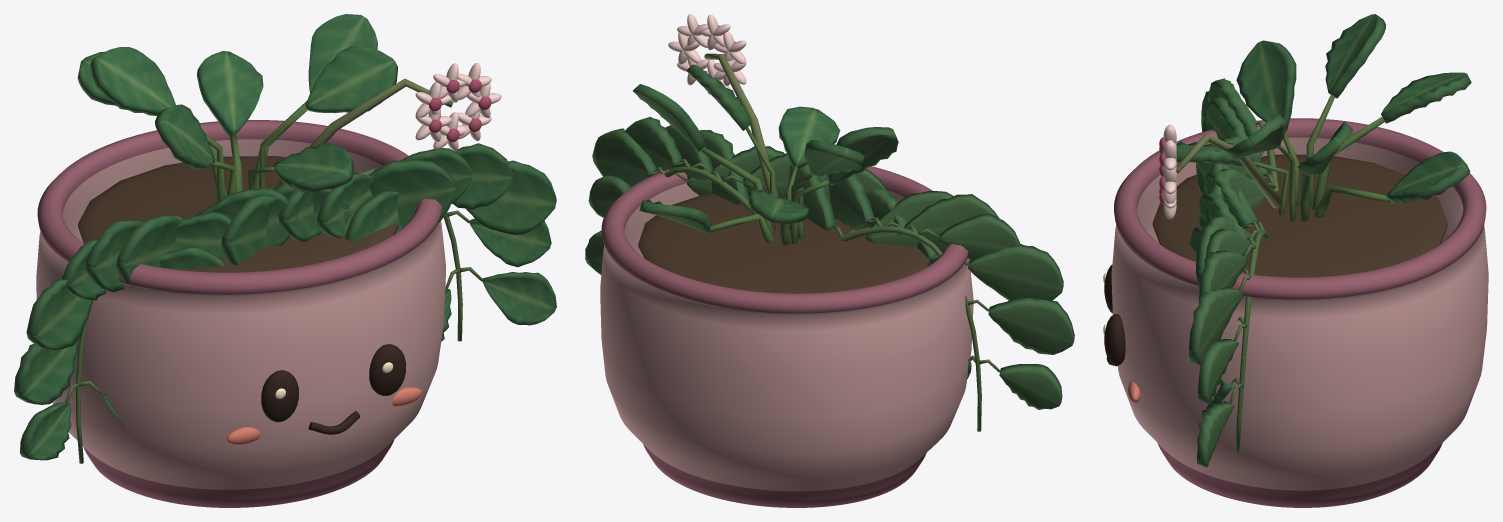
File: wax-plant-v1.glb
The picture shows the model from 3 angles, left to right: view 1: azimuth 30°, elevation 25°; view 2: azimuth 150°, elevation 25°; view 3: azimuth 270°, elevation 25°; orthographic projection. The views are drawn at different scales.
Visible parts, largest first — view 1: Wheel-thrown ceramic, Soil, Hoya Carnosa crown lamina 6, Hoya Carnosa crown lamina 2, Hoya Carnosa crown lamina 4, Hoya Carnosa trailing leaf 1-7-1, Hoya Carnosa trailing leaf 1-1-1, Hoya Carnosa trailing leaf 0-7--1, Hoya Carnosa trailing leaf 1-11-1, Hoya Carnosa trailing leaf 0-9--1, Hoya Carnosa crown lamina 3, Hoya Carnosa crown lamina 1 (+21 smaller); view 2: Wheel-thrown ceramic, Soil, Hoya Carnosa trailing leaf 0-7--1, Hoya Carnosa trailing leaf 0-9--1, Hoya Carnosa trailing leaf 1-7-1, Hoya Carnosa crown lamina 3, Hoya Carnosa trailing leaf 0-5--1, Hoya Carnosa trailing leaf 0-3--1, Hoya Carnosa trailing leaf 0-11--1, Hoya Carnosa crown lamina 5, Hoya Carnosa trailing leaf 0-3-1, Hoya Carnosa trailing leaf 1-5-1 (+19 smaller); view 3: Wheel-thrown ceramic, Soil, Hoya Carnosa crown lamina 5, Hoya Carnosa crown lamina 2, Hoya Carnosa crown lamina 4, Hoya Carnosa trailing leaf 1-7-1, Hoya Carnosa crown lamina 7, Hoya Carnosa trailing leaf 1-9-1, Hoya Carnosa trailing leaf 1-5-1, Hoya Carnosa trailing leaf 1-11-1, Hoya Carnosa crown lamina 6, Flower spur (+17 smaller).
Part boxes in pixels (<box>): Wheel-thrown ceramic: <box>36,120,445,507</box>; Soil: <box>78,156,398,272</box>; Hoya Carnosa crown lamina 6: <box>305,46,397,113</box>; Hoya Carnosa crown lamina 2: <box>90,47,175,115</box>; Hoya Carnosa crown lamina 4: <box>196,51,263,137</box>; Hoya Carnosa trailing leaf 1-7-1: <box>466,160,556,234</box>; Hoya Carnosa trailing leaf 1-1-1: <box>369,159,455,228</box>; Hoya Carnosa trailing leaf 0-7--1: <box>26,276,93,349</box>; Hoya Carnosa trailing leaf 1-11-1: <box>482,272,556,325</box>; Hoya Carnosa trailing leaf 0-9--1: <box>14,340,77,404</box>; Hoya Carnosa crown lamina 3: <box>273,142,354,193</box>; Hoya Carnosa crown lamina 1: <box>308,14,377,93</box>; Wheel-thrown ceramic: <box>600,166,973,507</box>; Soil: <box>638,194,929,293</box>; Hoya Carnosa trailing leaf 0-7--1: <box>968,243,1063,300</box>; Hoya Carnosa trailing leaf 0-9--1: <box>988,297,1074,354</box>; Hoya Carnosa trailing leaf 1-7-1: <box>592,128,657,187</box>; Hoya Carnosa crown lamina 3: <box>778,106,840,169</box>; Hoya Carnosa trailing leaf 0-5--1: <box>939,214,1019,260</box>; Hoya Carnosa trailing leaf 0-3--1: <box>904,194,998,252</box>; Hoya Carnosa trailing leaf 0-11--1: <box>999,364,1062,409</box>; Hoya Carnosa crown lamina 5: <box>826,127,898,185</box>; Hoya Carnosa trailing leaf 0-3-1: <box>828,173,874,229</box>; Hoya Carnosa trailing leaf 1-5-1: <box>625,116,682,172</box>; Wheel-thrown ceramic: <box>1111,118,1488,507</box>; Soil: <box>1152,154,1447,277</box>; Hoya Carnosa crown lamina 5: <box>1236,40,1296,131</box>; Hoya Carnosa crown lamina 2: <box>1325,14,1385,98</box>; Hoya Carnosa crown lamina 4: <box>1386,151,1470,204</box>; Hoya Carnosa trailing leaf 1-7-1: <box>1189,287,1243,365</box>; Hoya Carnosa crown lamina 7: <box>1381,72,1471,123</box>; Hoya Carnosa trailing leaf 1-9-1: <box>1198,339,1238,403</box>; Hoya Carnosa trailing leaf 1-5-1: <box>1199,250,1248,297</box>; Hoya Carnosa trailing leaf 1-11-1: <box>1196,401,1234,467</box>; Hoya Carnosa crown lamina 6: <box>1227,113,1286,160</box>; Flower spur: <box>1176,134,1282,208</box>.
Bounding box in the file's own units: 2.42 × 1.72 × 1.53.
